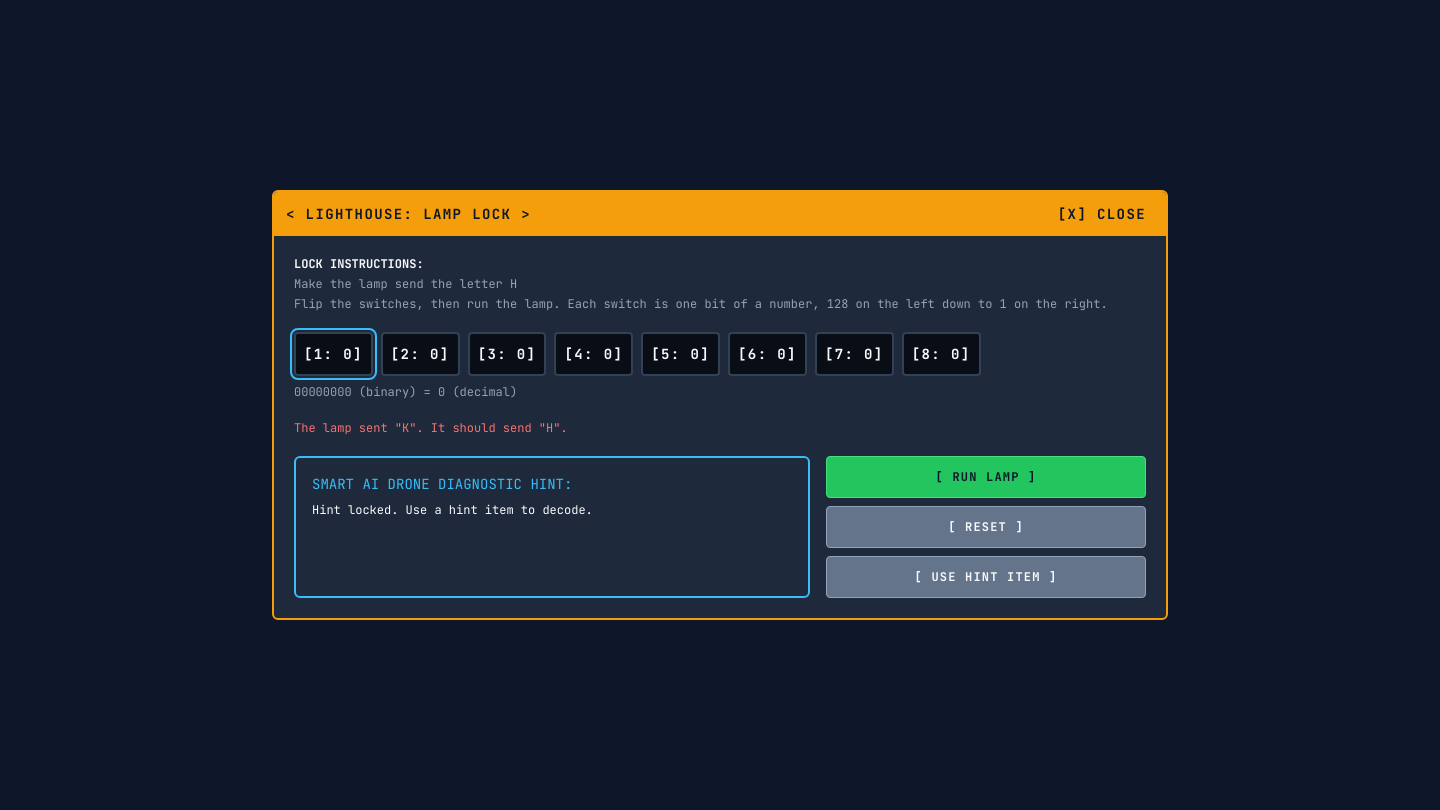
Test: LampModal › shows the error until a switch changes
The width and height of the screenshot is (1440, 810).
Click the button "[ RUN LAMP ]" at (986, 477), box [826,456,1146,498]
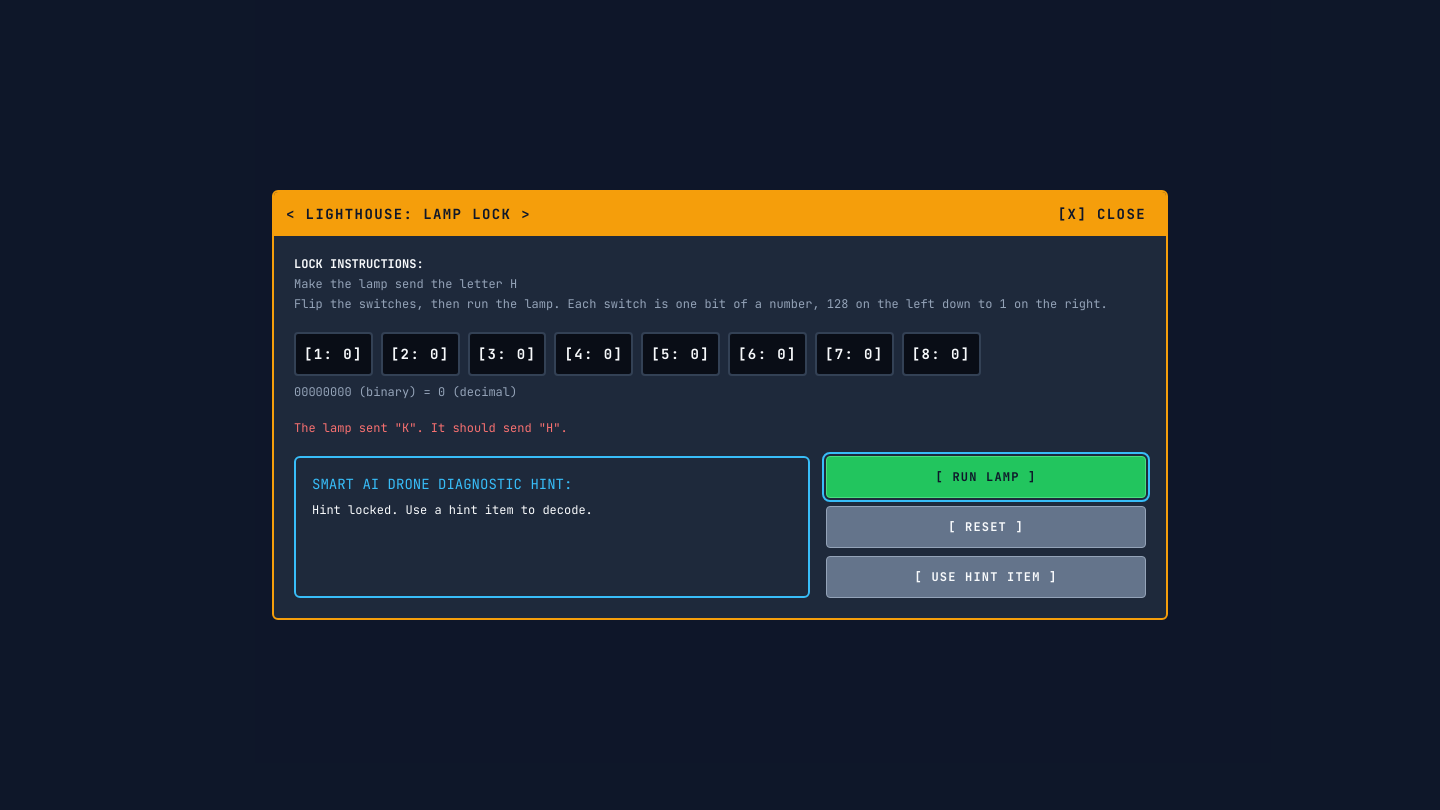
Expected: the message reads "The lamp sent \"K\". It should send \"H\".", [294,420,568,436]
Click the switch labelled "[8: 0]" at (941, 354), box [902,332,980,376]
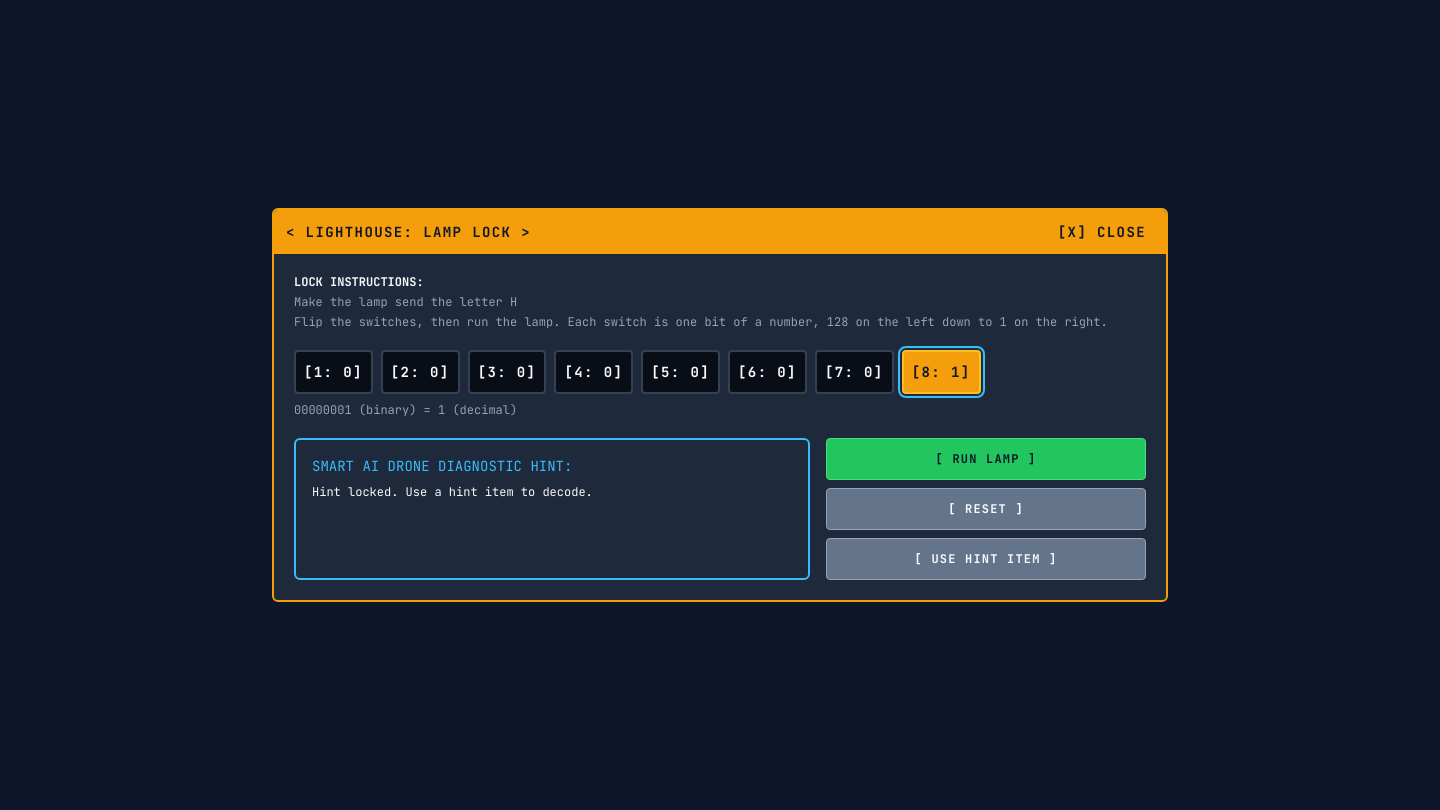
Now the message "The lamp sent \"K\". It should send \"H\"." is gone
